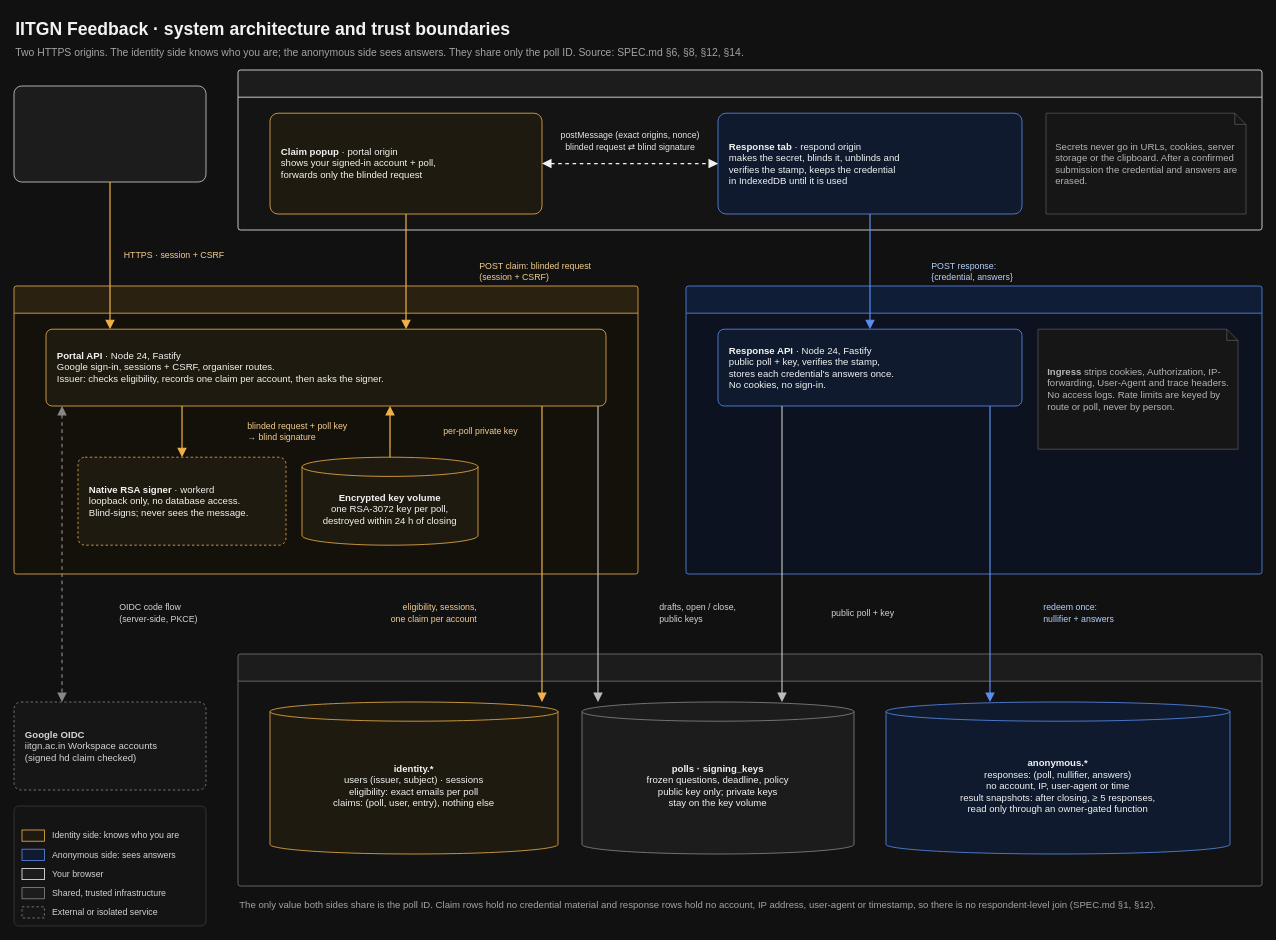
Image size: 1276x940. Some labels were removed from this diagram. Here are the shapes that lost their labels. From the top down, the box of each, then its label:
(13, 85, 206, 182): Organiser's browser portal app: drafts, eligibility list, open / close, results
(237, 69, 1262, 230): Participant's browser · desktop Chrome or Firefox
(13, 285, 638, 574): Identity side · portal.feedback.example
(685, 285, 1262, 574): Anonymous side · respond.feedback.example
(237, 653, 1262, 886): PostgreSQL 17 · separate schemas + roles
(13, 805, 206, 926): Legend
